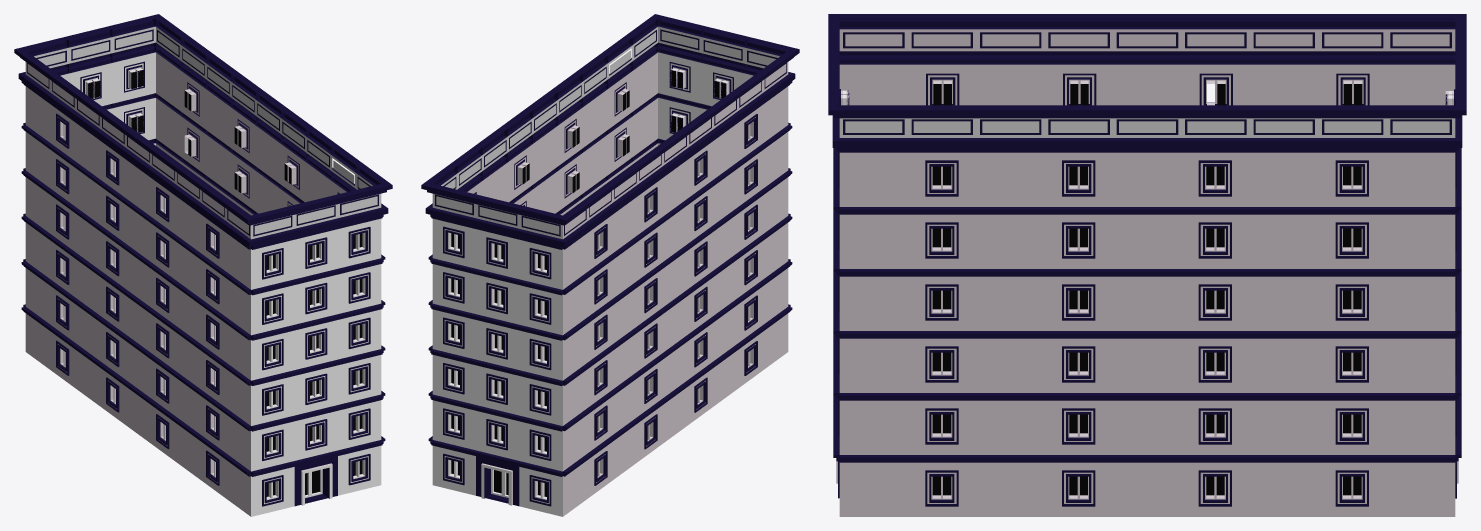
Rendered from myWhiteBuilding.fbx.
The picture shows the model from 3 angles, left to right: view 1: azimuth 30°, elevation 25°; view 2: azimuth 150°, elevation 25°; view 3: azimuth 270°, elevation 25°; orthographic projection. The views are drawn at different scales.
Parts seen in each view (by area): view 1: Roof.200; view 2: Roof.200; view 3: Roof.200.
Part boxes in pixels (bbox=[...]): Roof.200: bbox=[14, 14, 392, 516]; Roof.200: bbox=[421, 14, 799, 516]; Roof.200: bbox=[828, 14, 1466, 516].
Bounding box in the file's own units: 333 × 664 × 933.
